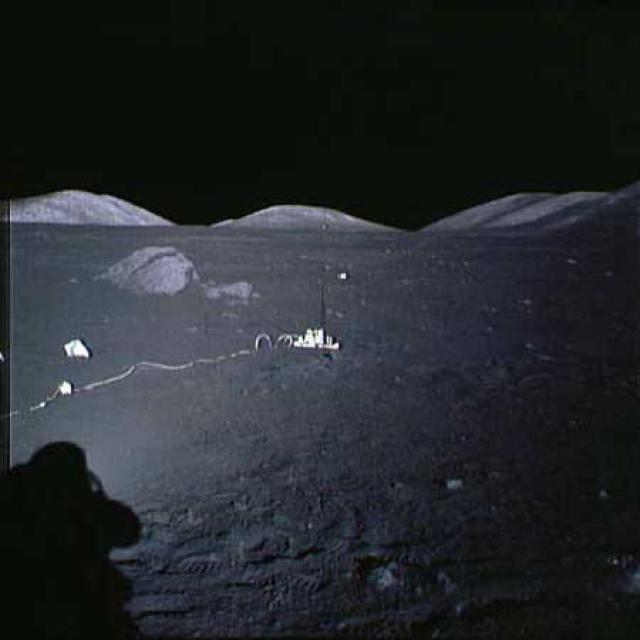artifact: (255, 281, 345, 354), (59, 332, 97, 360)
rock: (104, 239, 200, 299), (203, 278, 263, 304)
